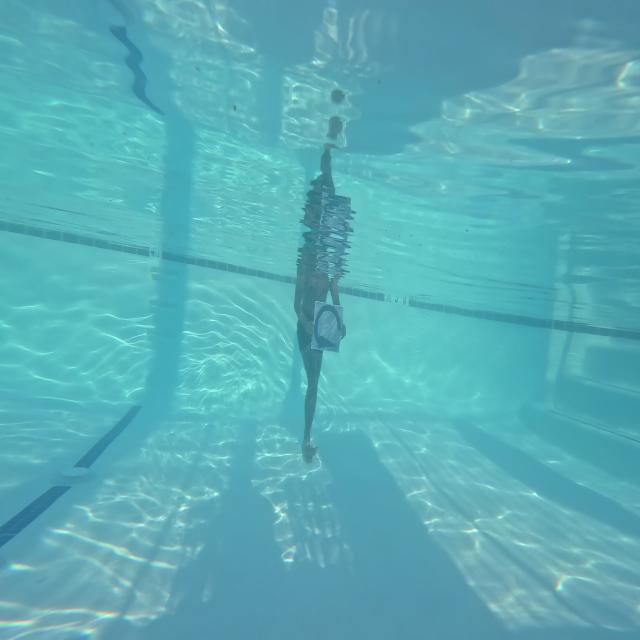blue_side: (314, 300, 351, 357)
